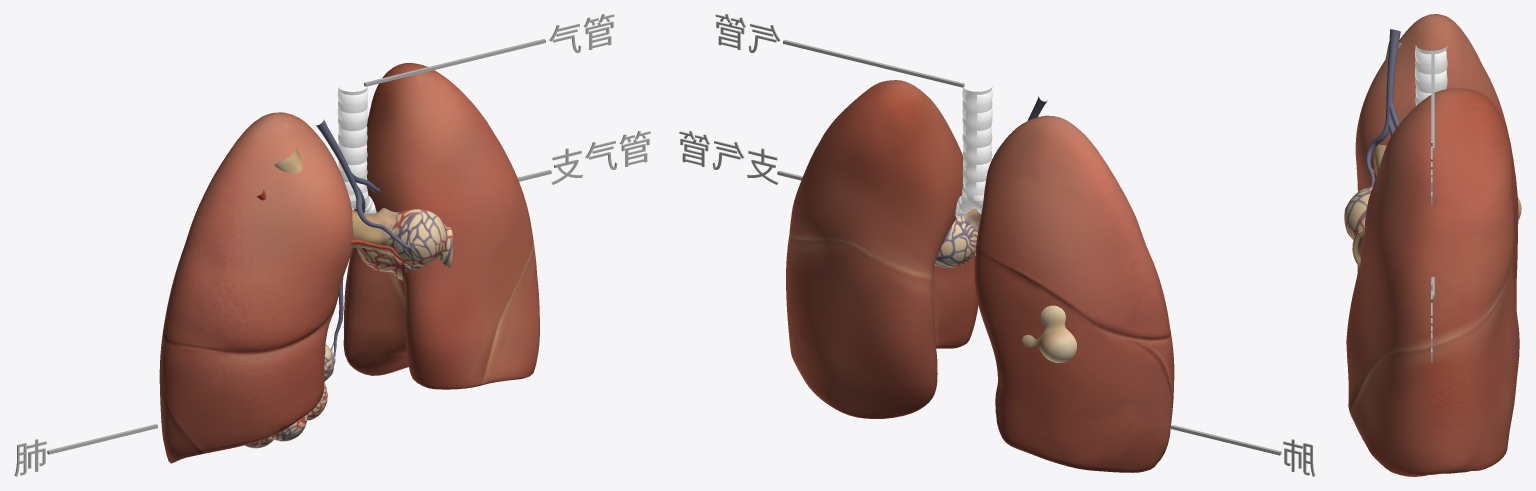
File: fei.gltf
3 renders of one model, left to right at view 1: azimuth 30°, elevation 25°; view 2: azimuth 150°, elevation 25°; view 3: azimuth 270°, elevation 25°, orthographic. The views are drawn at different scales.
Parts seen in each view (by area): view 1: fei_l, fei_r, polySurface36, zhugan, polySurface37, polySurface26, pCube1; view 2: fei_l, fei_r, polySurface36, zhugan, polySurface37, polySurface26, pCube1; view 3: fei_r, fei_l, polySurface36, zhugan, pCube1, polySurface10, polySurface9.
Boxes of the visible parts, x1,y1,x2,y2 form: fei_l: [159, 112, 353, 463]; fei_r: [343, 63, 539, 389]; polySurface36: [245, 119, 452, 448]; zhugan: [338, 87, 376, 213]; polySurface37: [551, 131, 650, 184]; polySurface26: [549, 14, 614, 52]; pCube1: [364, 39, 545, 86]; fei_l: [974, 115, 1174, 472]; fei_r: [786, 80, 978, 418]; polySurface36: [934, 96, 1076, 362]; zhugan: [955, 87, 992, 218]; polySurface37: [679, 131, 778, 184]; polySurface26: [715, 14, 780, 52]; pCube1: [783, 39, 964, 87]; fei_r: [1346, 88, 1519, 476]; fei_l: [1355, 14, 1518, 309]; polySurface36: [1344, 29, 1521, 267]; zhugan: [1415, 45, 1447, 105]; pCube1: [1431, 52, 1434, 150]; polySurface10: [1415, 45, 1446, 65]; polySurface9: [1415, 68, 1446, 83].
Bounding box in the file's own units: 169 × 88.48 × 37.42.
7 materials, 3 textured.
